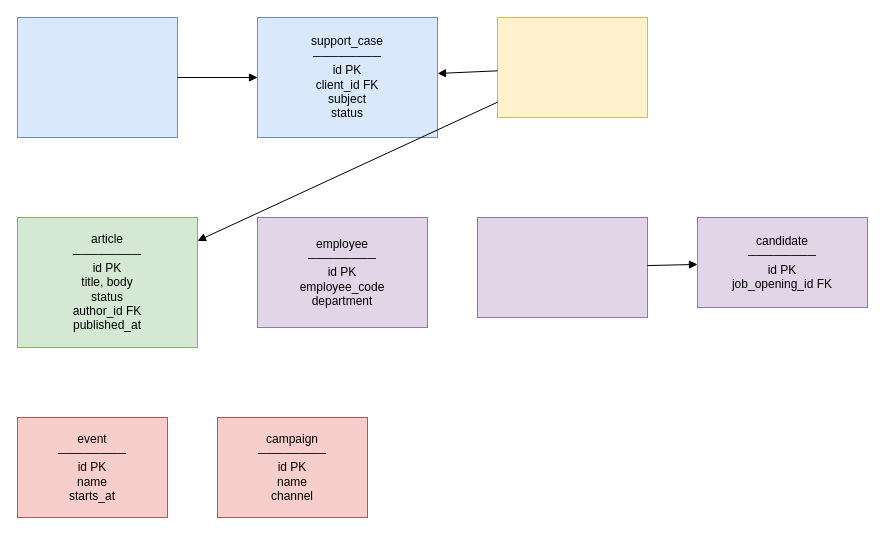
Image size: 885x535. Some labels were removed from this diagram. Each missing label, with the centre of its shape:
app_user ──────── id PK ldap_uid area: the point at 572,67
client ──────── id PK full_name email phone: the point at 97,77
job_opening ──────── id PK title area: the point at 562,267
